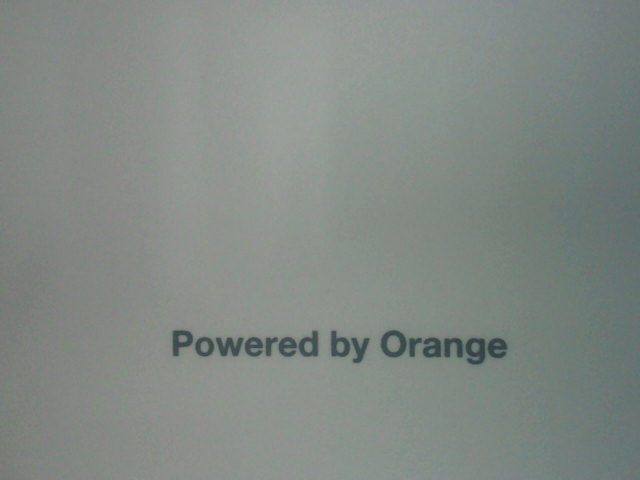AS_PowerByOrange: (168, 319, 514, 369)
